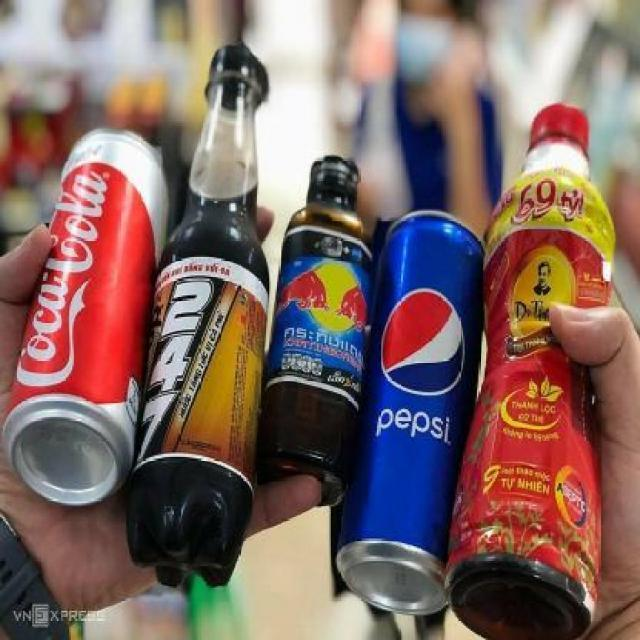metal-can: (1, 122, 175, 513), (334, 195, 492, 623)
